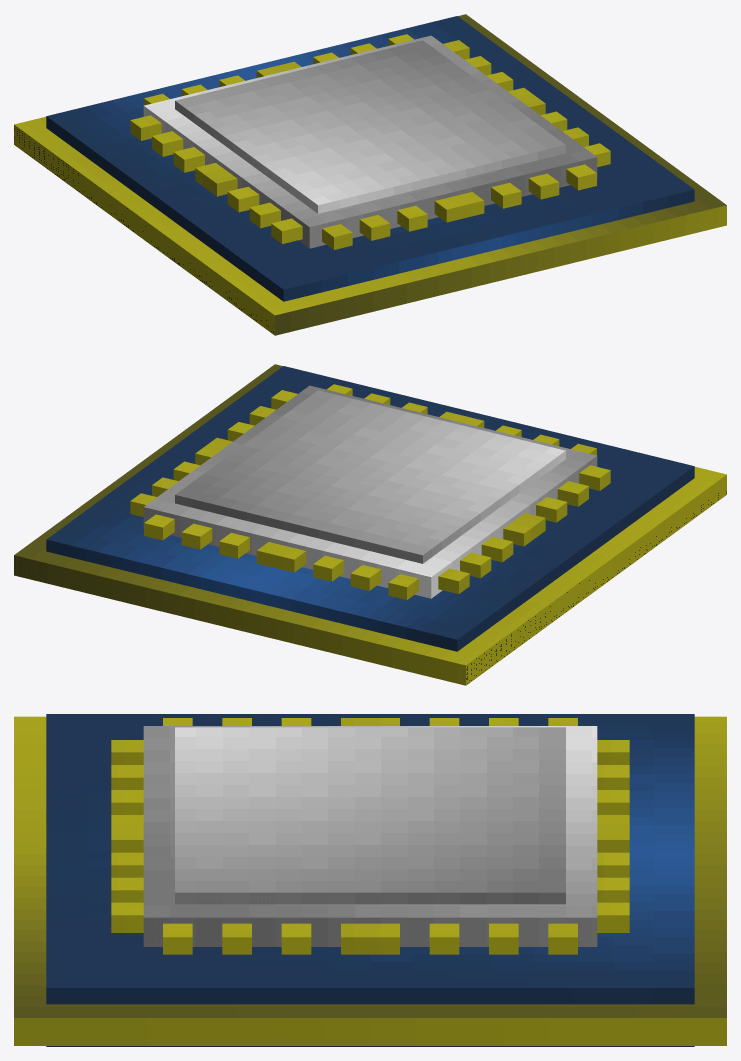
The model's file is CPU.obj.
3 views of the same model, one above another, from view 1: azimuth 30°, elevation 25°; view 2: azimuth 150°, elevation 25°; view 3: azimuth 270°, elevation 25° (orthographic). The views are drawn at different scales.
Visible parts, largest first — view 1: CPU; view 2: CPU; view 3: CPU.
Boxes of the visible parts, box(x1,y1,x2,y2) form: CPU: box(14, 14, 726, 335); CPU: box(14, 364, 726, 685); CPU: box(14, 714, 726, 1046).
Bounding box in the file's own units: 3.49 × 0.54 × 3.49.
